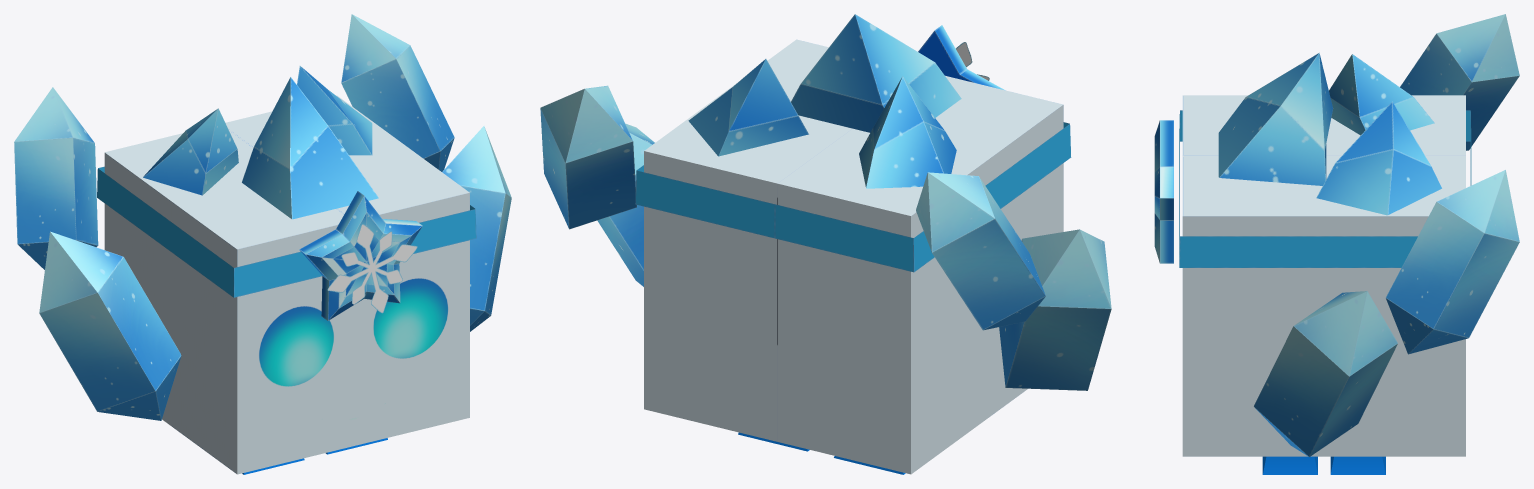
Rendered from Pet_IceQueen.fbx.
The picture shows the model from 3 angles, left to right: view 1: azimuth 30°, elevation 25°; view 2: azimuth 150°, elevation 25°; view 3: azimuth 270°, elevation 25°; orthographic projection. The views are drawn at different scales.
Visible parts, largest first — view 1: Pet_IceQueen, Pet_IceQueen.001; view 2: Pet_IceQueen, Pet_IceQueen.001; view 3: Pet_IceQueen, Pet_IceQueen.001.
Boxes of the visible parts, <box> form: Pet_IceQueen: <box>97,66,476,474</box>; Pet_IceQueen.001: <box>14,14,511,420</box>; Pet_IceQueen: <box>635,14,1071,474</box>; Pet_IceQueen.001: <box>540,85,1111,390</box>; Pet_IceQueen: <box>1154,52,1471,474</box>; Pet_IceQueen.001: <box>1254,14,1519,456</box>.
Bounding box in the file's own units: 766 × 559 × 499.
1 material, 1 textured.
